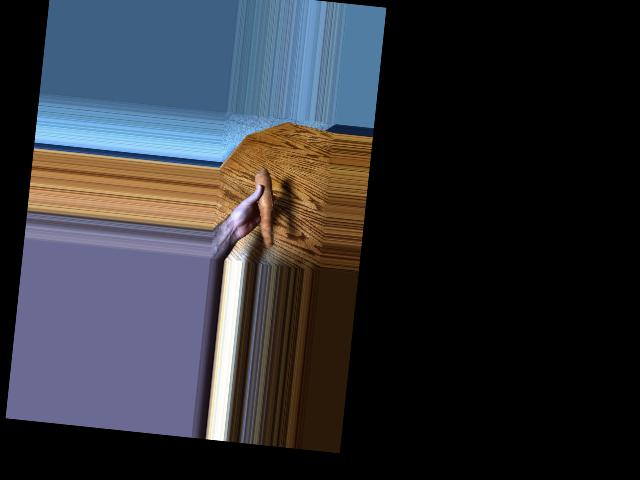sweet_potato: (254, 169, 277, 247)
